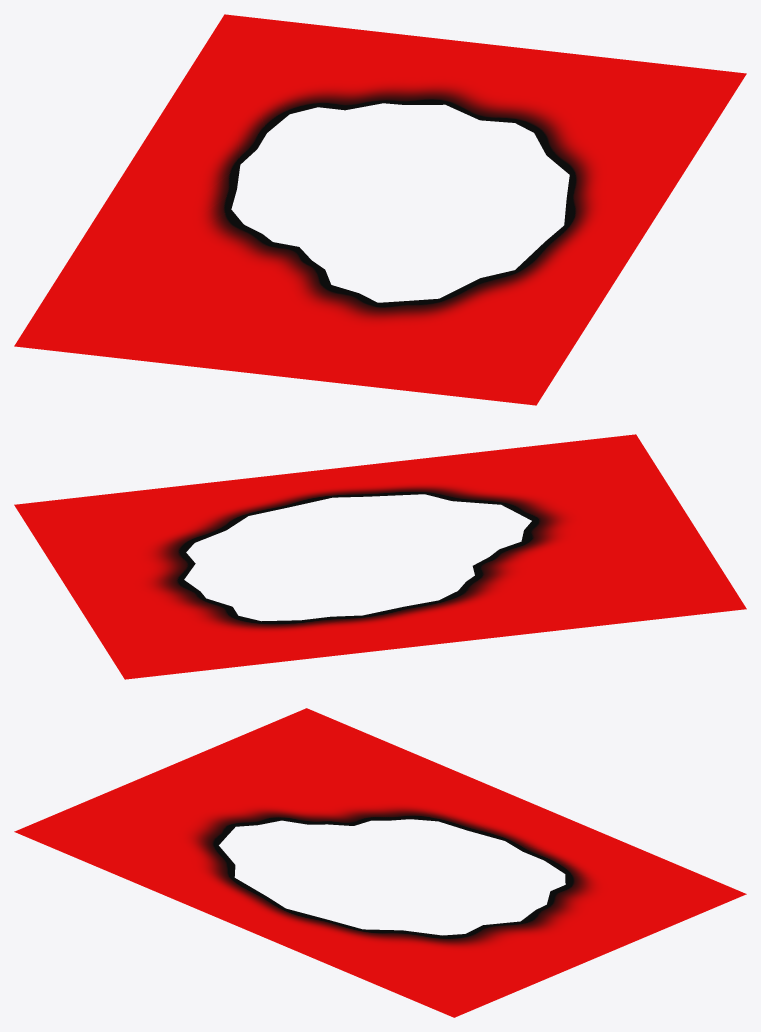
File: Water Edge SDF.fbx
3 views of the same model, one above another, from view 1: azimuth 30°, elevation 25°; view 2: azimuth 150°, elevation 25°; view 3: azimuth 270°, elevation 25° (orthographic). The views are drawn at different scales.
Visible parts, largest first — view 1: Water Edge SDF; view 2: Water Edge SDF; view 3: Water Edge SDF.
Part boxes in pixels (<box>): Water Edge SDF: <box>14,14,746,405</box>; Water Edge SDF: <box>14,434,746,679</box>; Water Edge SDF: <box>14,708,746,1017</box>.
Bounding box in the file's own units: 248 × 0.000122 × 248.
Materials: 1 (1 with a texture image).
